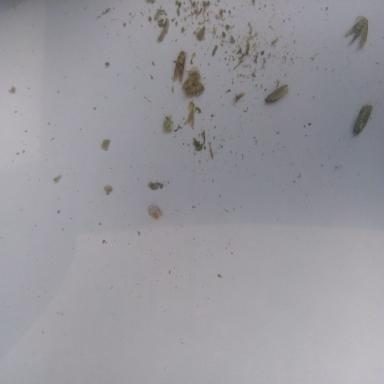pbw: (344, 15, 368, 47), (352, 104, 372, 137), (265, 80, 288, 103), (173, 51, 185, 82), (182, 72, 200, 89), (185, 82, 204, 94)
